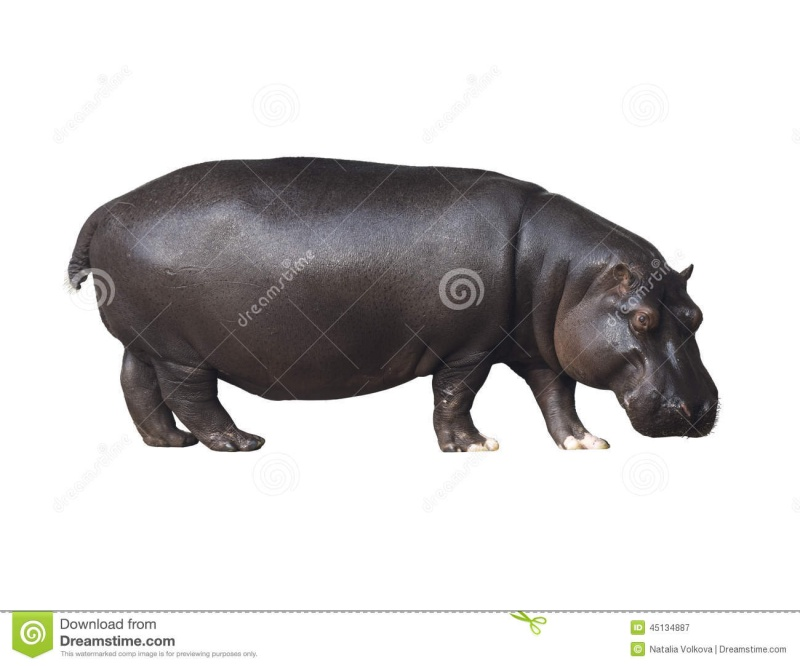hipopotamo: (70, 147, 734, 486)
